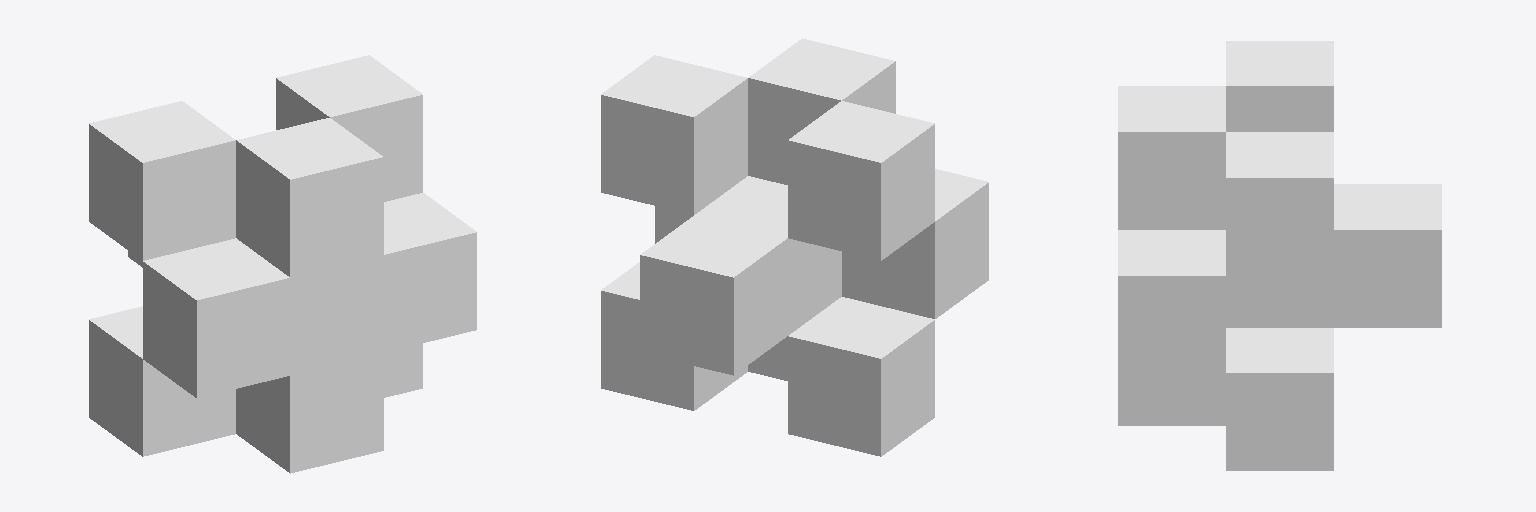
File: enemyBullet.obj
3 renders of one model, left to right at view 1: azimuth 30°, elevation 25°; view 2: azimuth 150°, elevation 25°; view 3: azimuth 270°, elevation 25°, orthographic.
Parts seen in each view (by area): view 1: object 1; view 2: object 1; view 3: object 1.
Boxes of the visible parts, x1,y1,x2,y2 form: object 1: [89, 55, 476, 473]; object 1: [601, 38, 988, 456]; object 1: [1118, 41, 1441, 470].
Size of the model in its own units: 0.3 by 0.3 by 0.3.